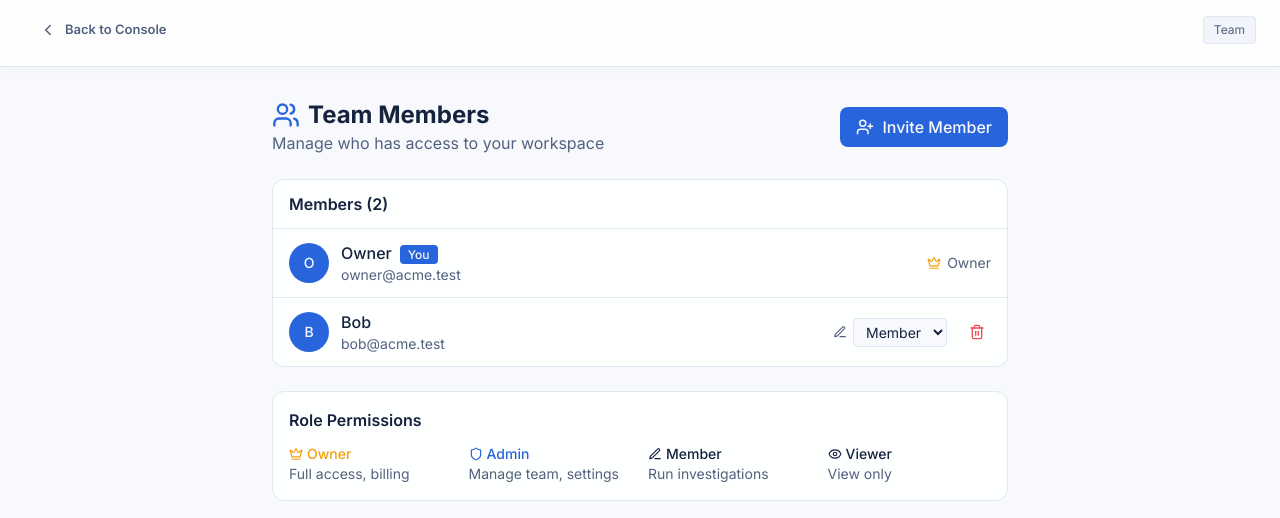
Test: Team page › DELETEs the member by user_id when removing
Expected: the text "bob@acme.test" is shown, [341,334,445,354]
Click the button titled "Remove member".
click(977, 332)  # box [963,318,991,346]
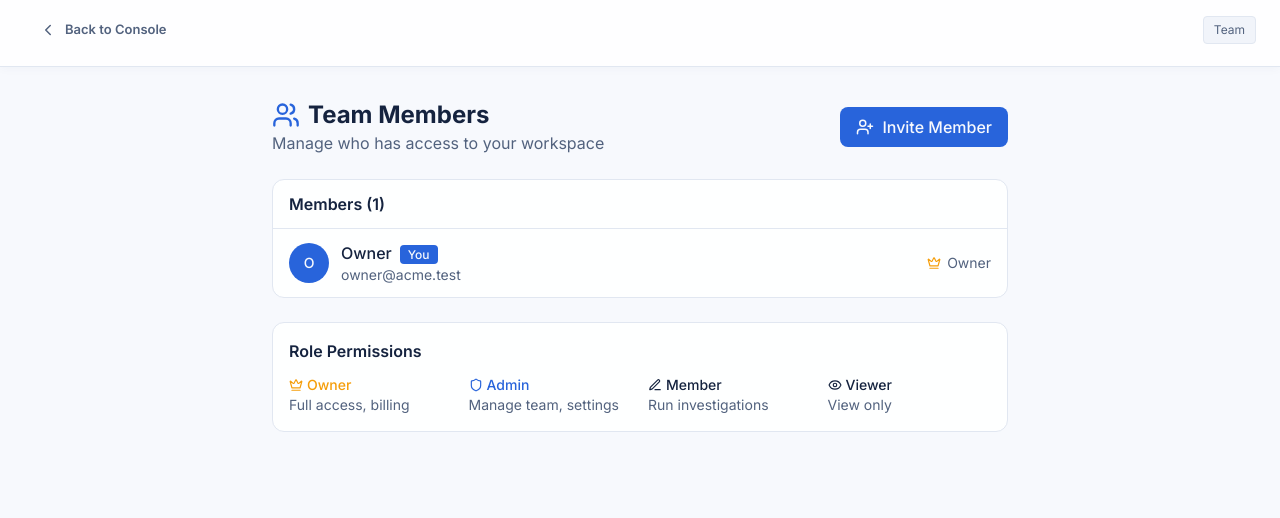
Result: the text "bob@acme.test" is gone
